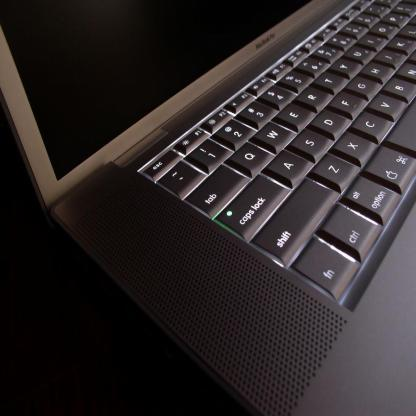board: (11, 0, 415, 401)
